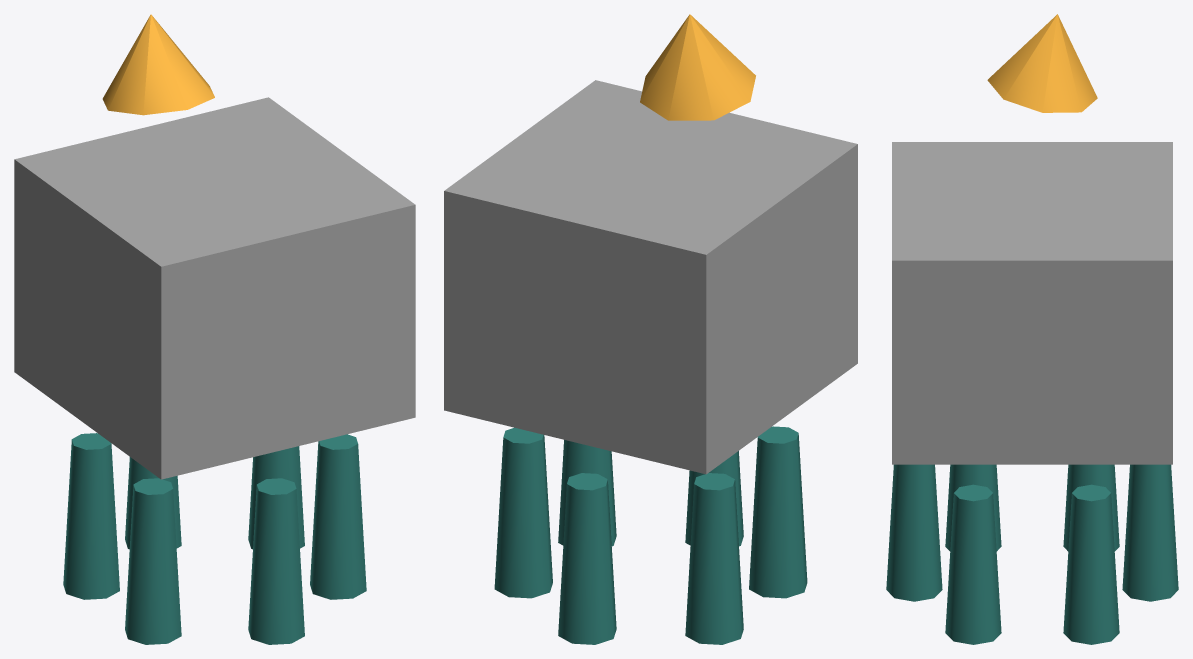
The model's file is six-legged-placement.glb.
3 renders of one model, left to right at view 1: azimuth 30°, elevation 25°; view 2: azimuth 150°, elevation 25°; view 3: azimuth 270°, elevation 25°, orthographic. The views are drawn at different scales.
Visible parts, largest first — view 1: Painted body, Part (×6), Fitted gear; view 2: Painted body, Part (×6), Fitted gear; view 3: Painted body, Part (×6), Fitted gear.
Part boxes in pixels (x1,y1,x2,y2): Painted body: [14, 97, 415, 479]; Part (×6): [63, 433, 366, 644]; Fitted gear: [102, 14, 214, 115]; Painted body: [444, 80, 857, 474]; Part (×6): [494, 426, 807, 644]; Fitted gear: [640, 14, 755, 120]; Painted body: [892, 142, 1172, 464]; Part (×6): [886, 464, 1178, 644]; Fitted gear: [987, 14, 1097, 112].
Bounding box in the file's own units: 1 × 2.17 × 1.04.
